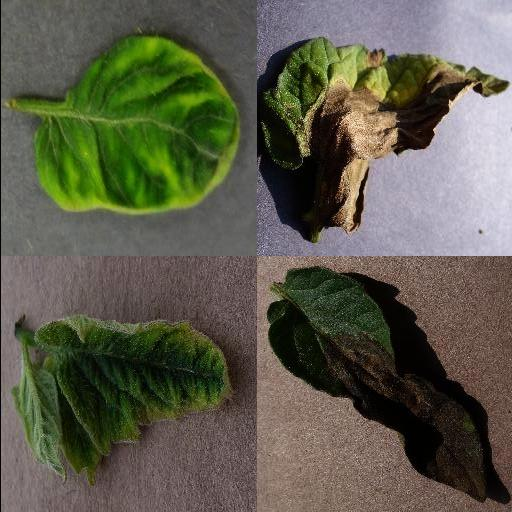Late Blight: (256, 36, 512, 242), (267, 265, 487, 503)
Yellow Leaf Curl Virus: (30, 36, 240, 218), (33, 314, 235, 488)
